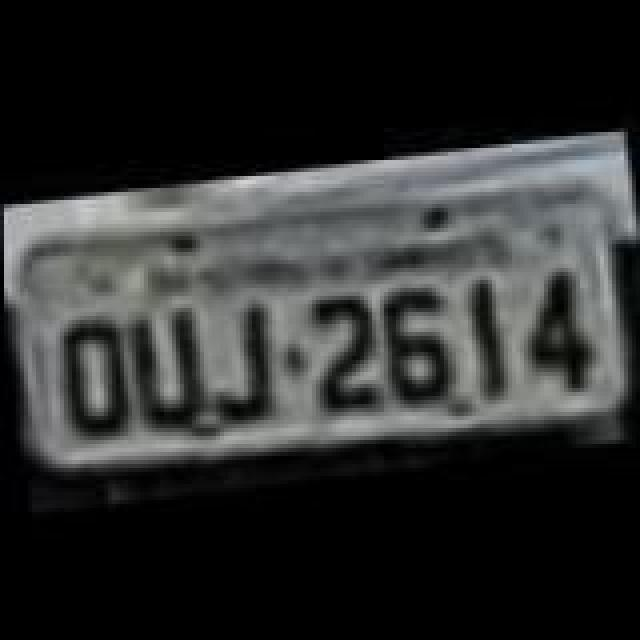1: (450, 270, 510, 406)
2: (296, 282, 384, 414)
4: (510, 256, 594, 400)
6: (366, 272, 458, 408)
J: (186, 292, 274, 428)
O: (52, 310, 136, 442)
U: (120, 300, 204, 432)
